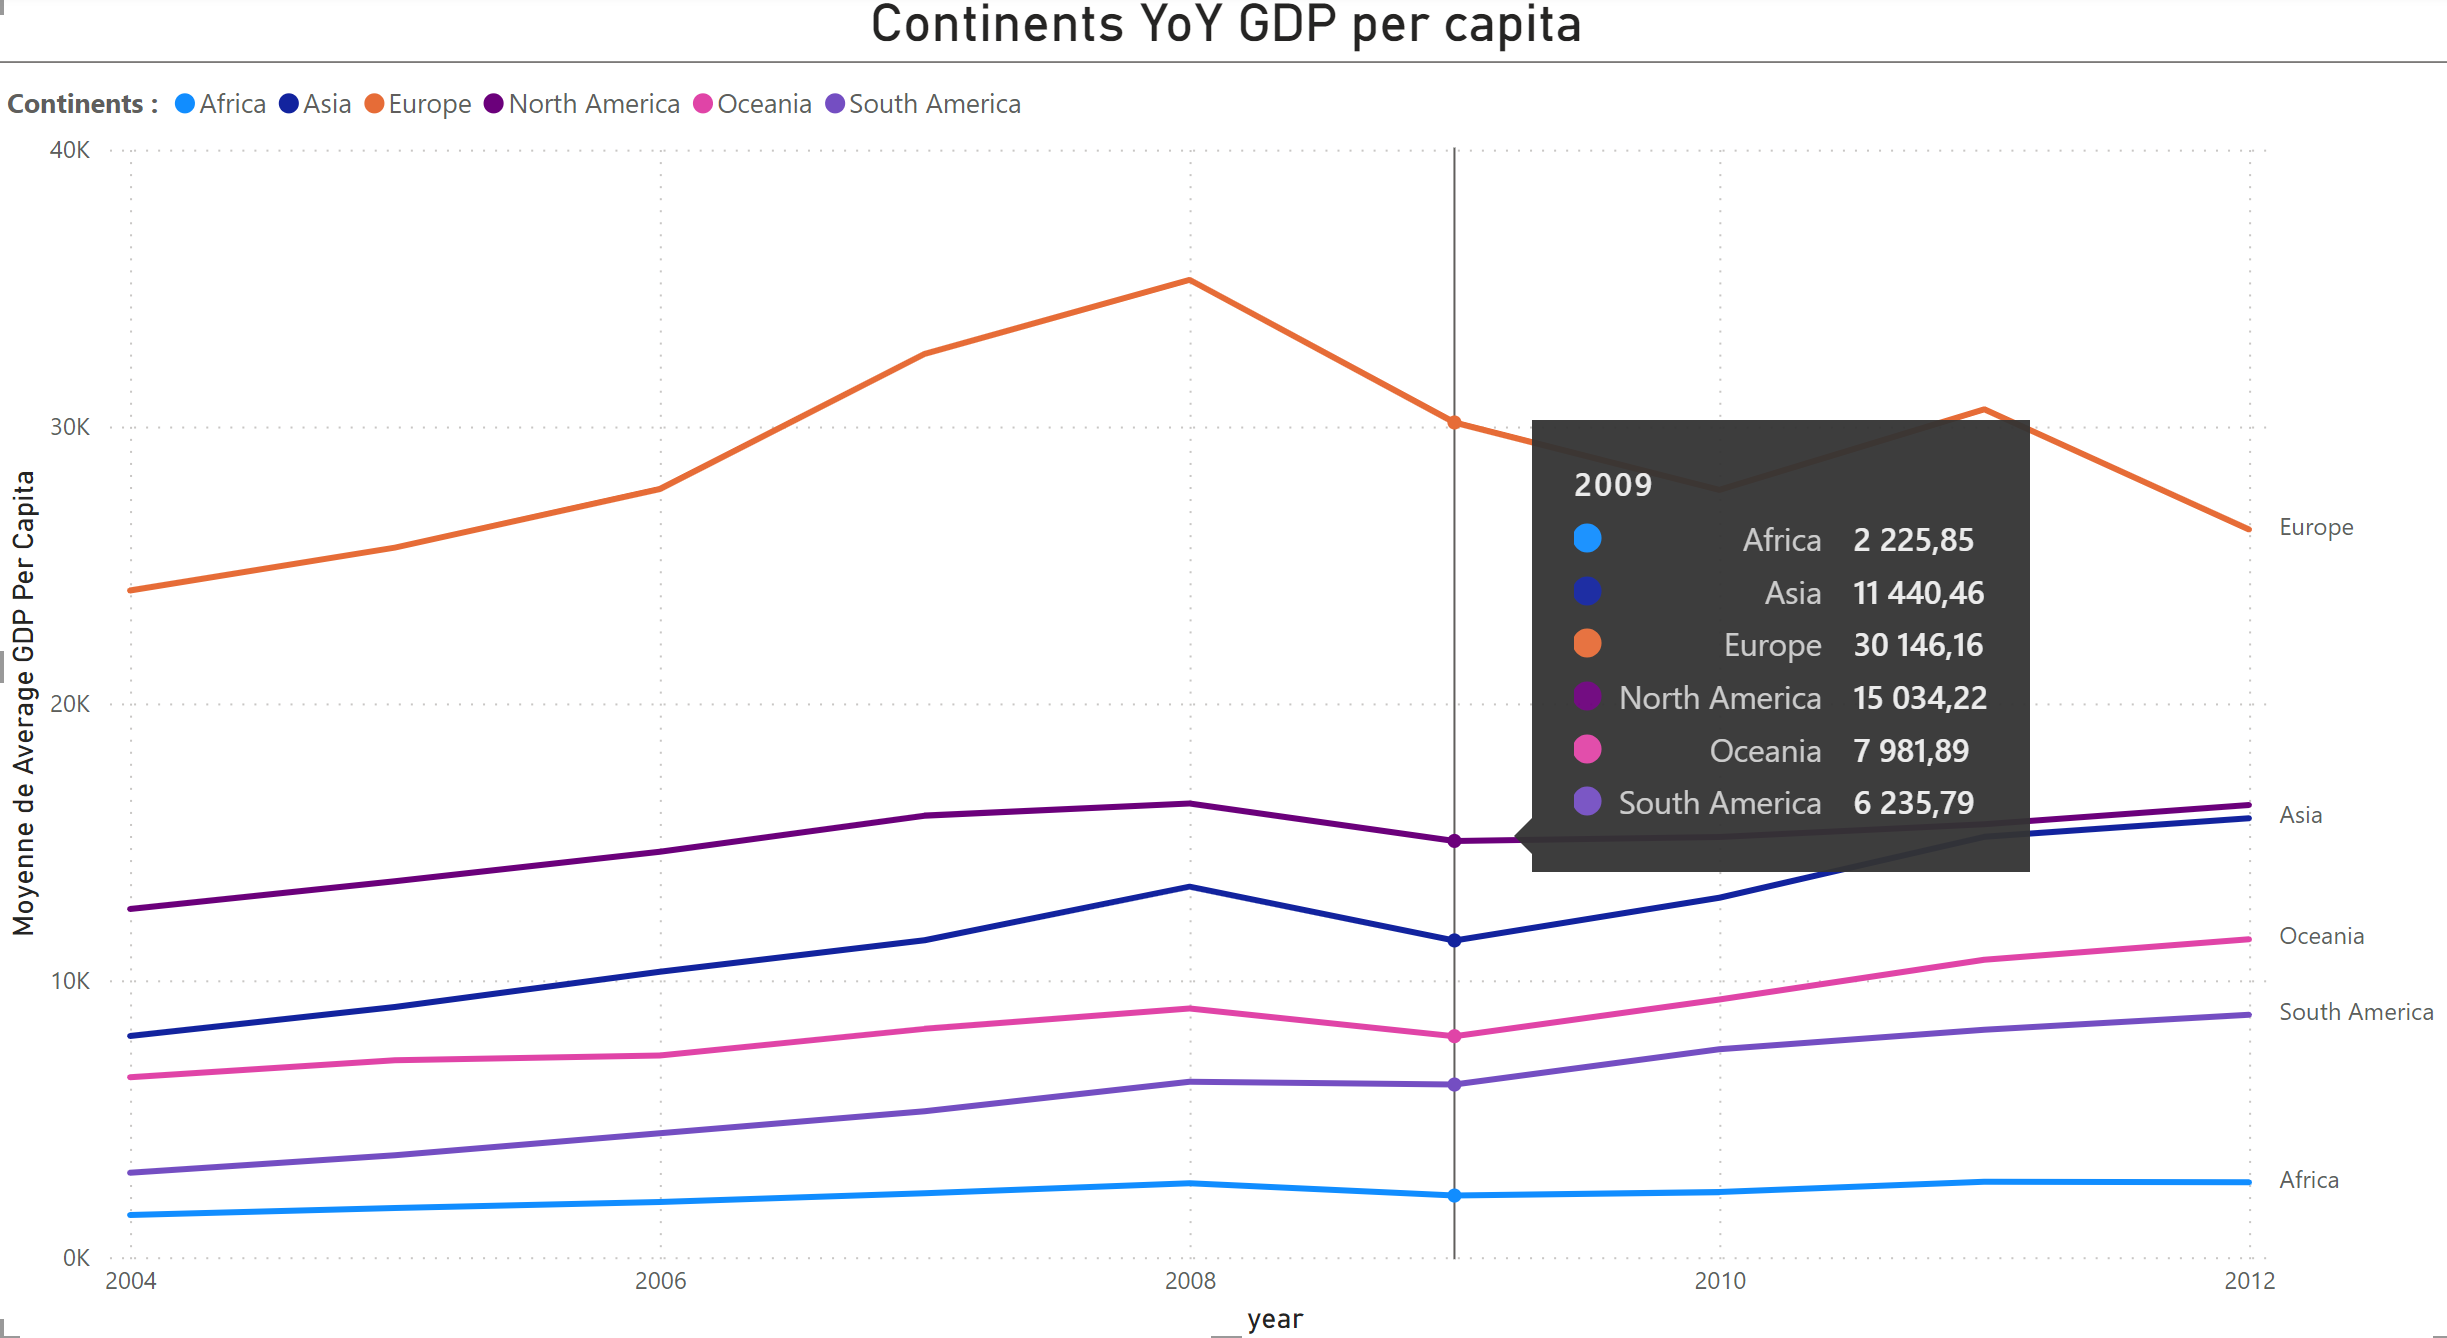

The page's visual inventory and layout, read from the dashboard file:
{"tool":"powerbi","page":{"name":"average GDP Per Capita for every continent for every year.","canvas":[1280,720],"ordinal":1},"visuals":[{"type":"lineChart","title":"Continents YoY GDP per capita ","fields":{"Y":["Avg(Results-Q4-csv.Average GDP Per Capita)"],"Category":["Results-Q4-csv.year"],"Series":["Results-Q4-csv.continent"]},"box":[10.5,0,1226.3,674],"z":0}]}

Visuals, with their boxes in screenshot pixels (x1, y1, x2, y2), scaled from the page's 1280x720 canvas onto the 2447x1338 screenshot:
"Continents YoY GDP per capita " lineChart: detection(20, 0, 2364, 1253)
